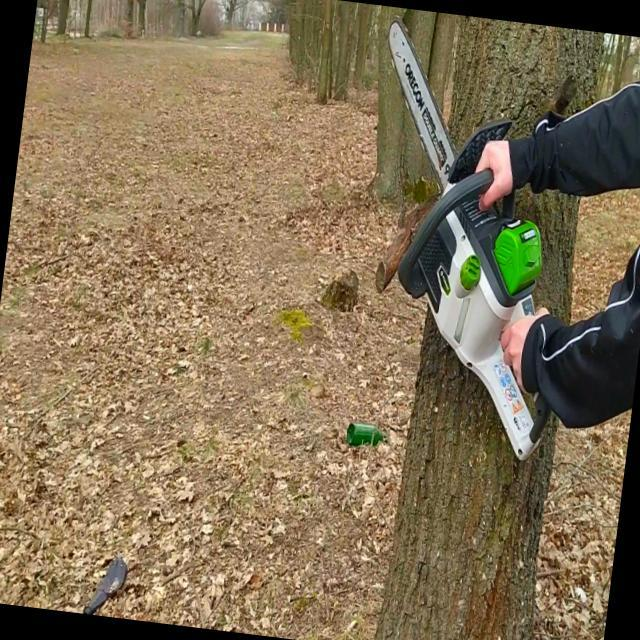Chainsaw: (334, 16, 598, 470)
